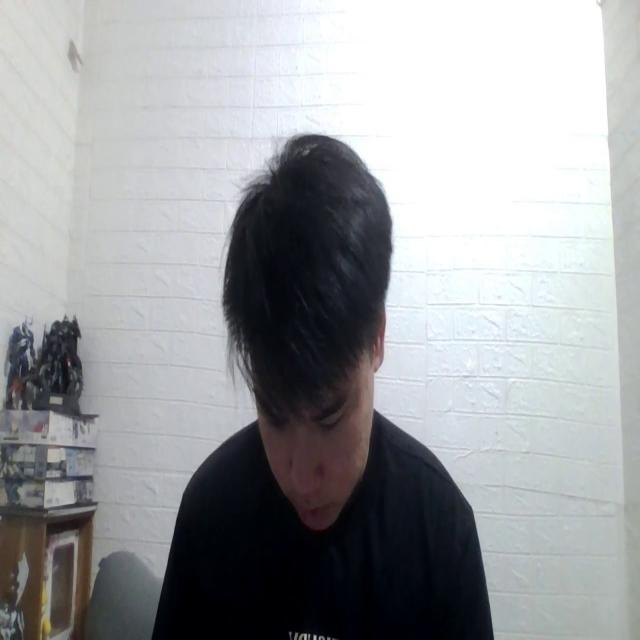student: (141, 129, 495, 640)
